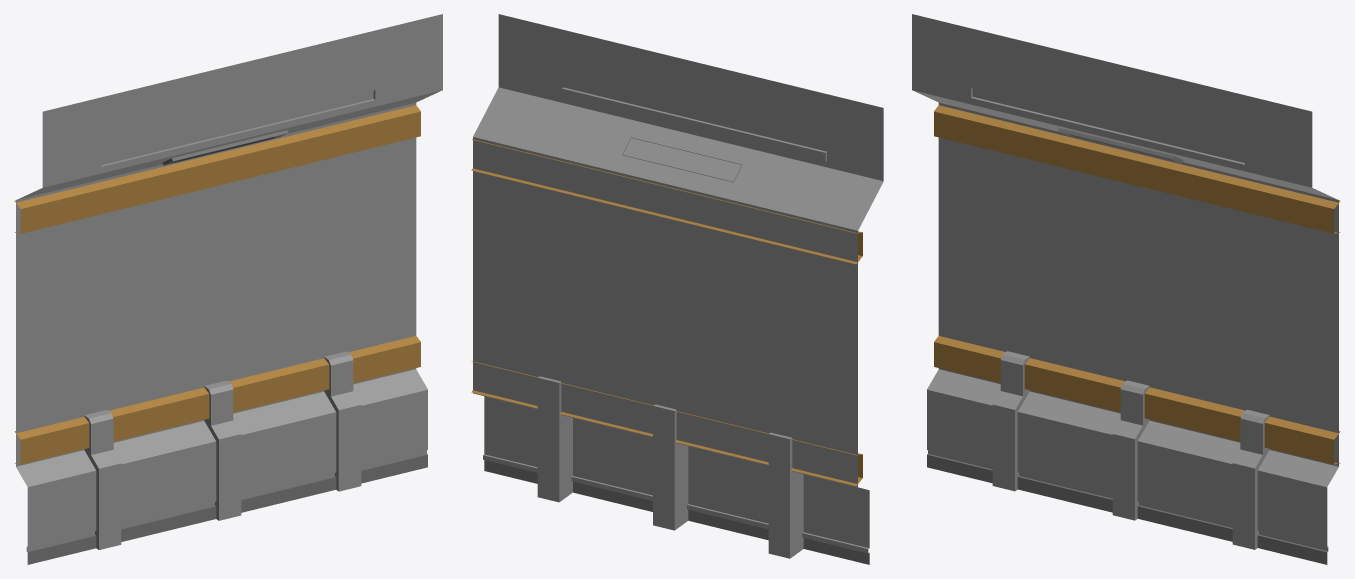
Rendered from wall-empty-7f44a6b45e.glb.
3 renders of one model, left to right at view 1: azimuth 30°, elevation 25°; view 2: azimuth 150°, elevation 25°; view 3: azimuth 330°, elevation 25°, orthographic. The views are drawn at different scales.
Parts seen in each view (by area): view 1: Wall_Empty.obj; view 2: Wall_Empty.obj; view 3: Wall_Empty.obj.
Part boxes in pixels (x1,y1,x2,y2): Wall_Empty.obj: [14, 14, 442, 564]; Wall_Empty.obj: [471, 14, 883, 564]; Wall_Empty.obj: [912, 14, 1340, 564].
Size of the model in its own units: 4 by 4.43 by 0.4991.
